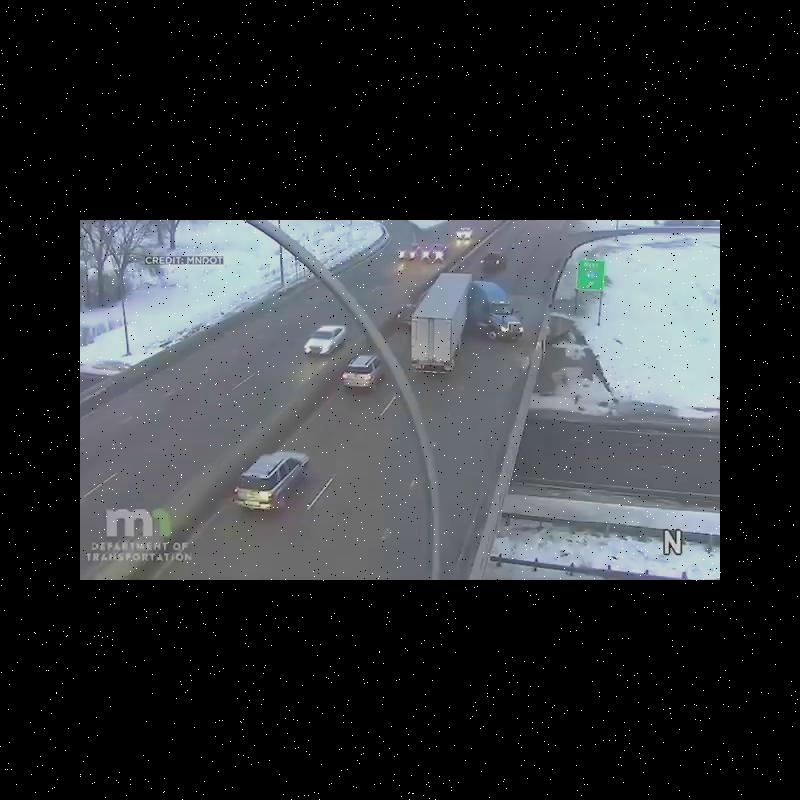car: (233, 450, 312, 511), (342, 354, 384, 393), (304, 323, 346, 355), (481, 250, 507, 273), (399, 240, 420, 262), (396, 301, 413, 326)
truck: (412, 272, 524, 373)
